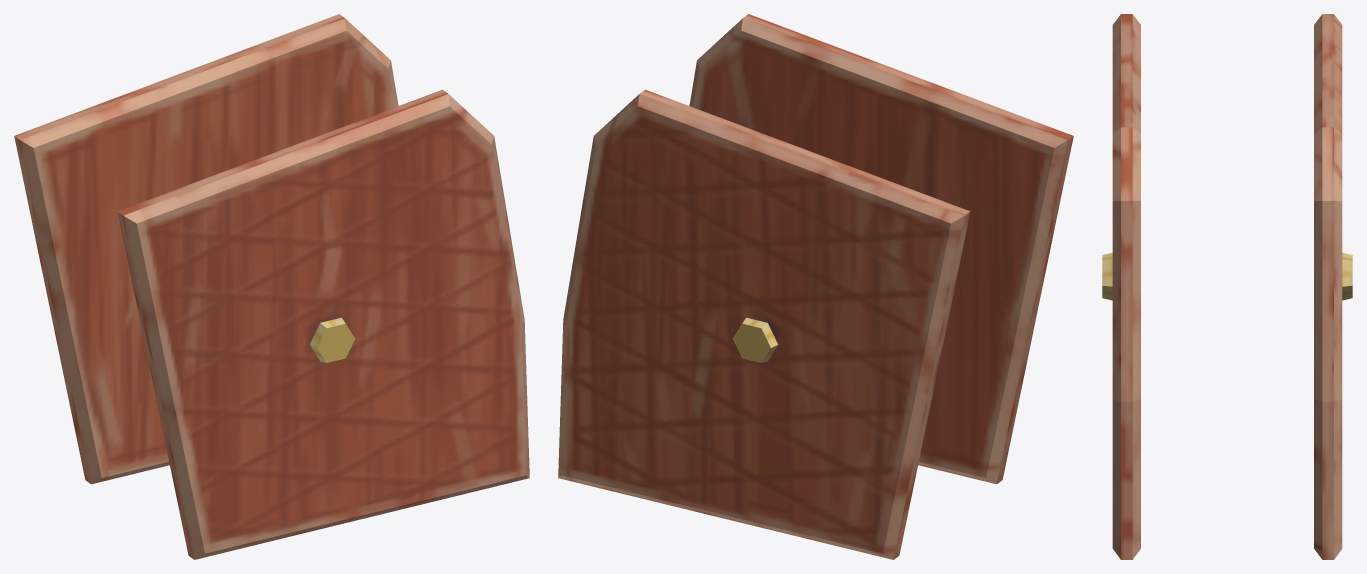
The model's file is pistol_grip.fbx.
3 renders of one model, left to right at view 1: azimuth 30°, elevation 25°; view 2: azimuth 150°, elevation 25°; view 3: azimuth 270°, elevation 25°, orthographic. The views are drawn at different scales.
Parts seen in each view (by area): view 1: pistol_grip; view 2: pistol_grip; view 3: pistol_grip.
Part boxes in pixels (box(x1,y1,x2,y2)): pistol_grip: box(14, 14, 529, 559); pistol_grip: box(558, 14, 1073, 559); pistol_grip: box(1102, 14, 1352, 559).
Size of the model in its own units: 0.3 by 0.285 by 0.1643.
